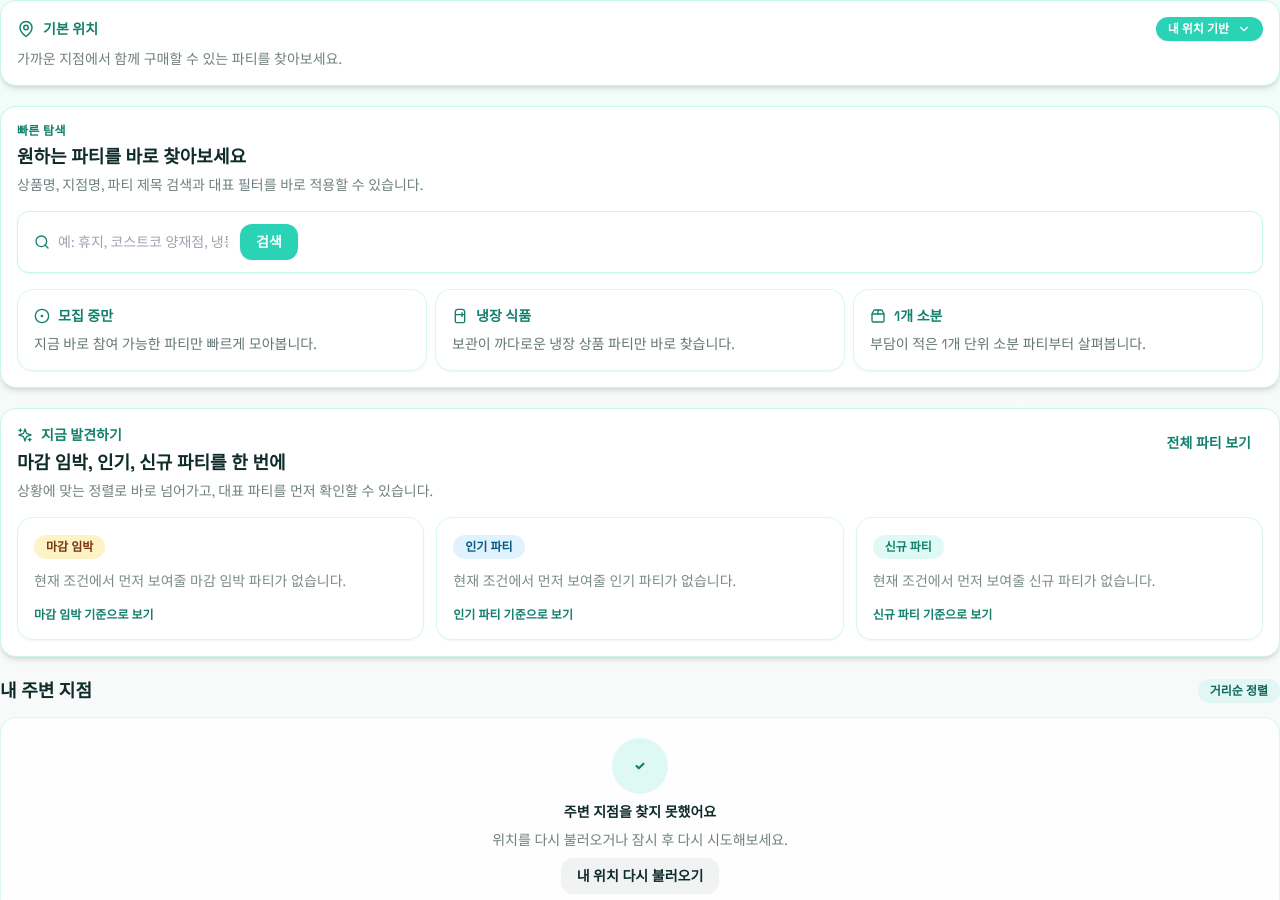
Test: Home quick discovery › 검색어를_입력하면_파티_목록으로_쿼리를_전달한다
Type "휴지" into the field named "홈 파티 검색" at (143, 242), box [58,232,228,252]
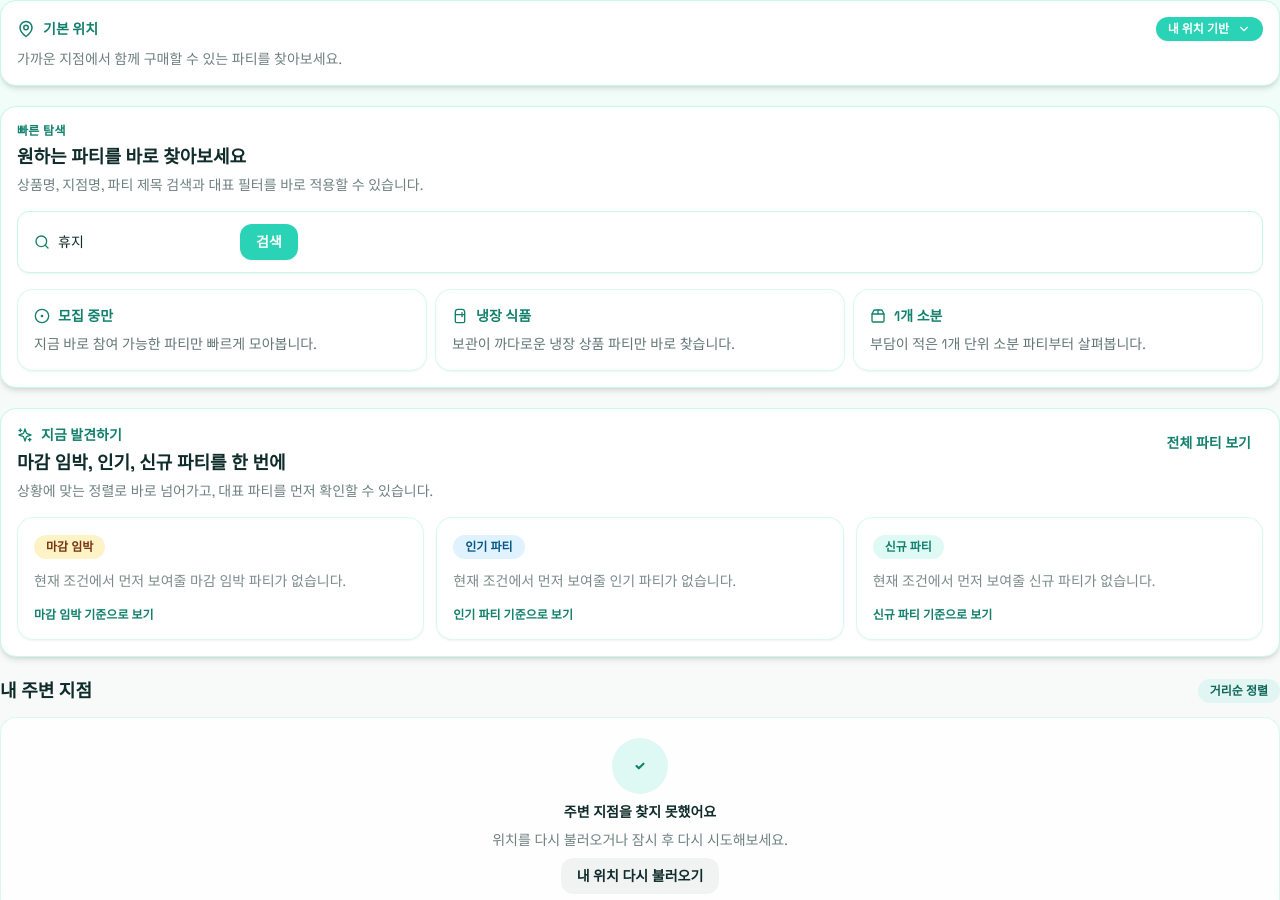
Click the button "검색" at (269, 242), box [240,224,298,260]
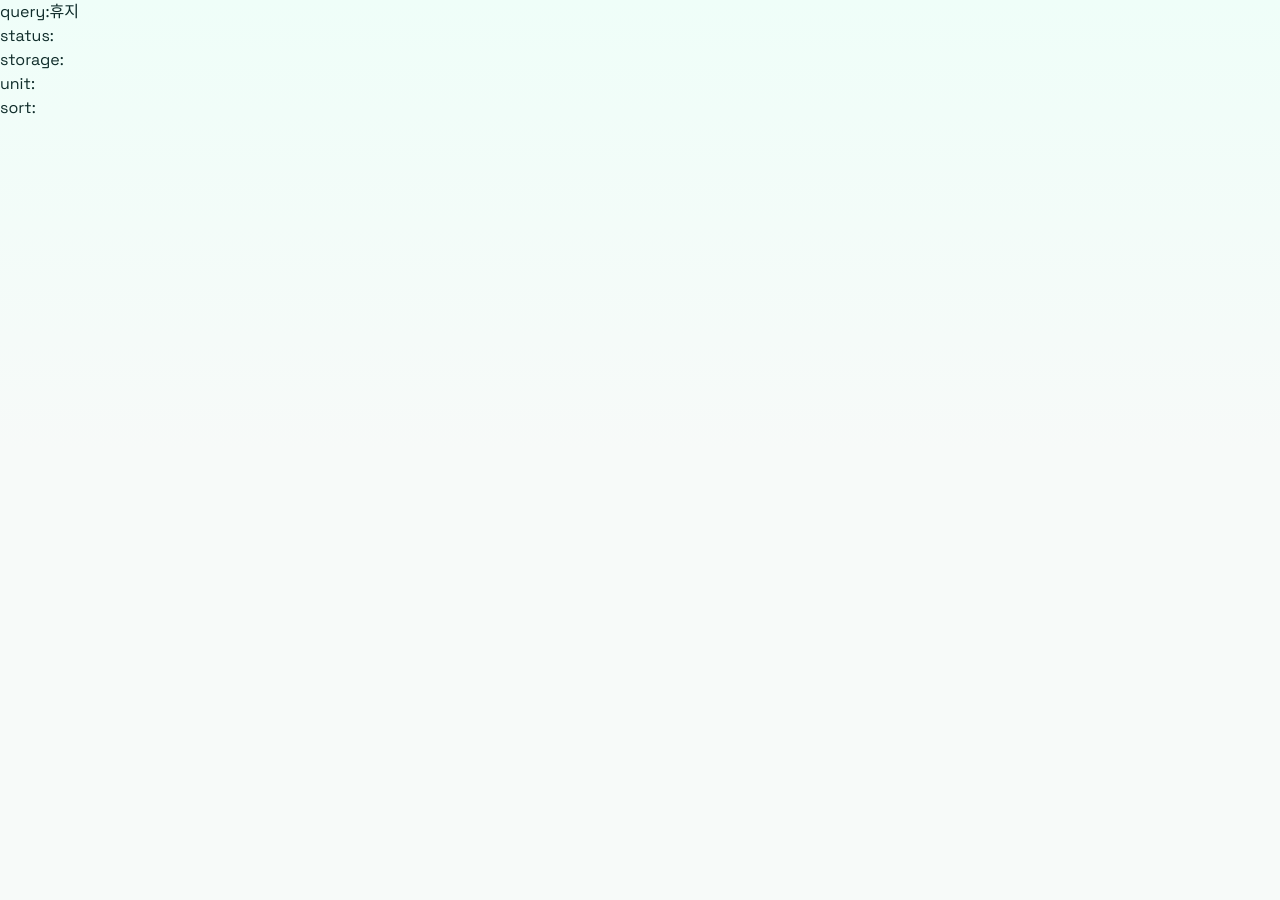
Expected: the text "query:휴지" is shown, [0,1,79,22]
Expected: the text "status:" is shown, [0,25,54,46]
